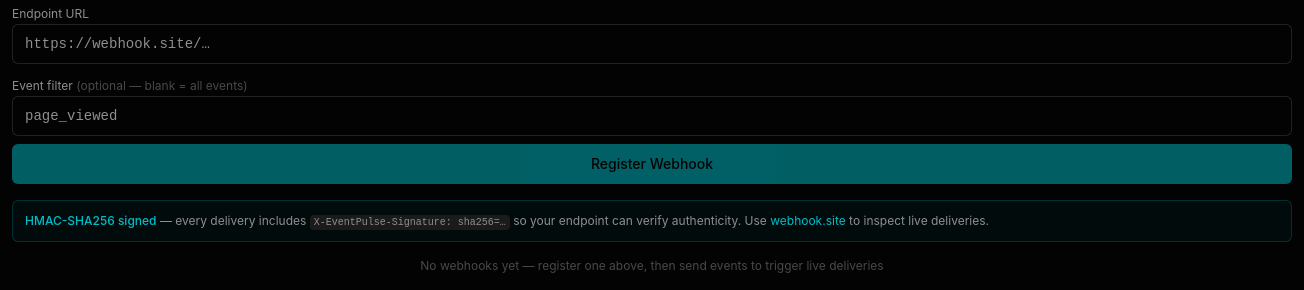
Test case: WebhookPanel › enables Register button when URL is typed
Type "https://example.com/hook" into the field labelled "Endpoint URL" at (652, 44), box 12,24 -> 1292,64
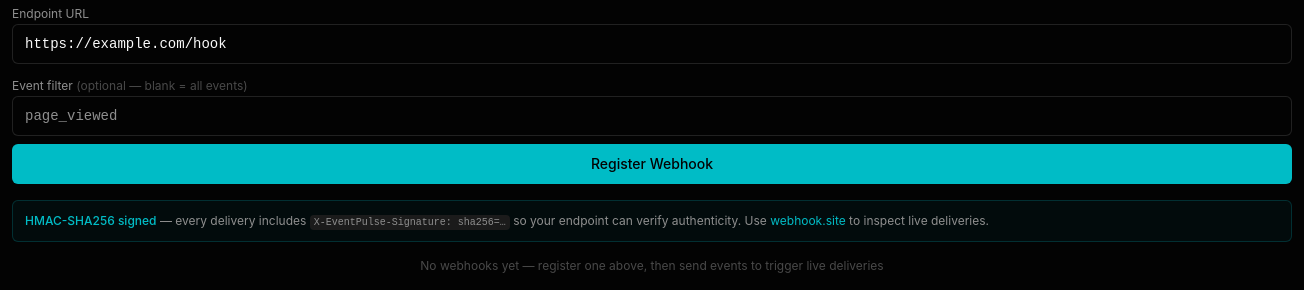
Result: the button "Register Webhook" is enabled at 12,144 -> 1292,184
